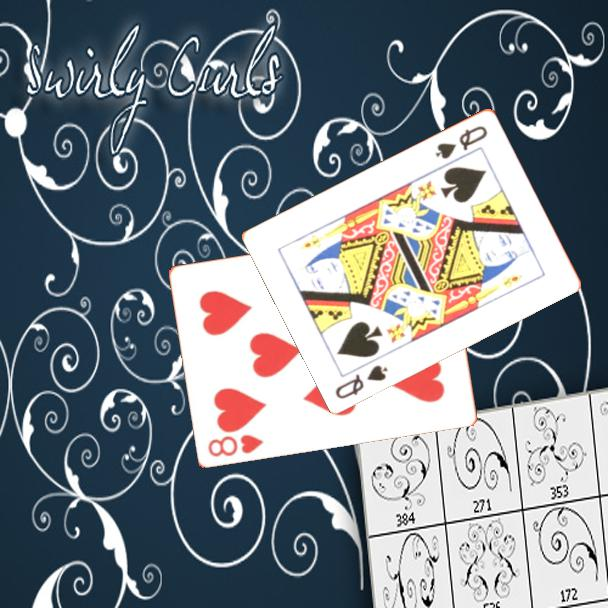h08: (205, 431, 267, 459)
s12: (432, 122, 491, 162), (332, 361, 391, 401)
